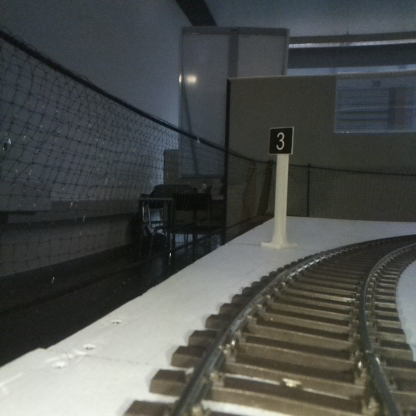black-info-3: (269, 128, 293, 247)
